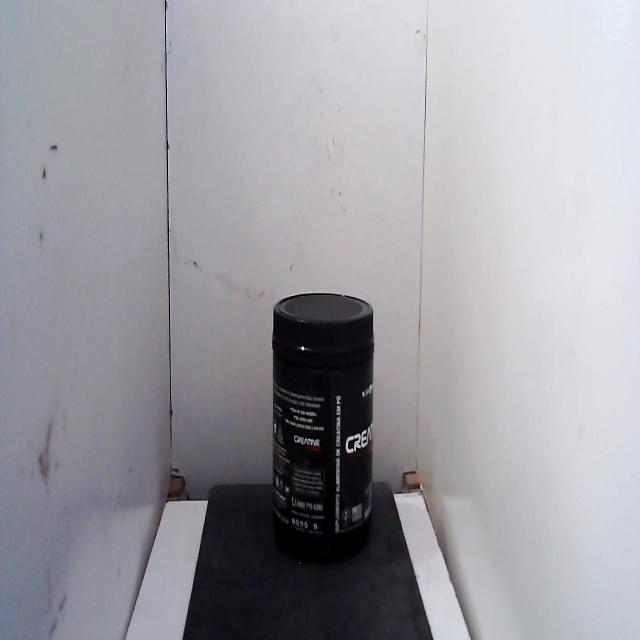plastico: (264, 263, 386, 581)
